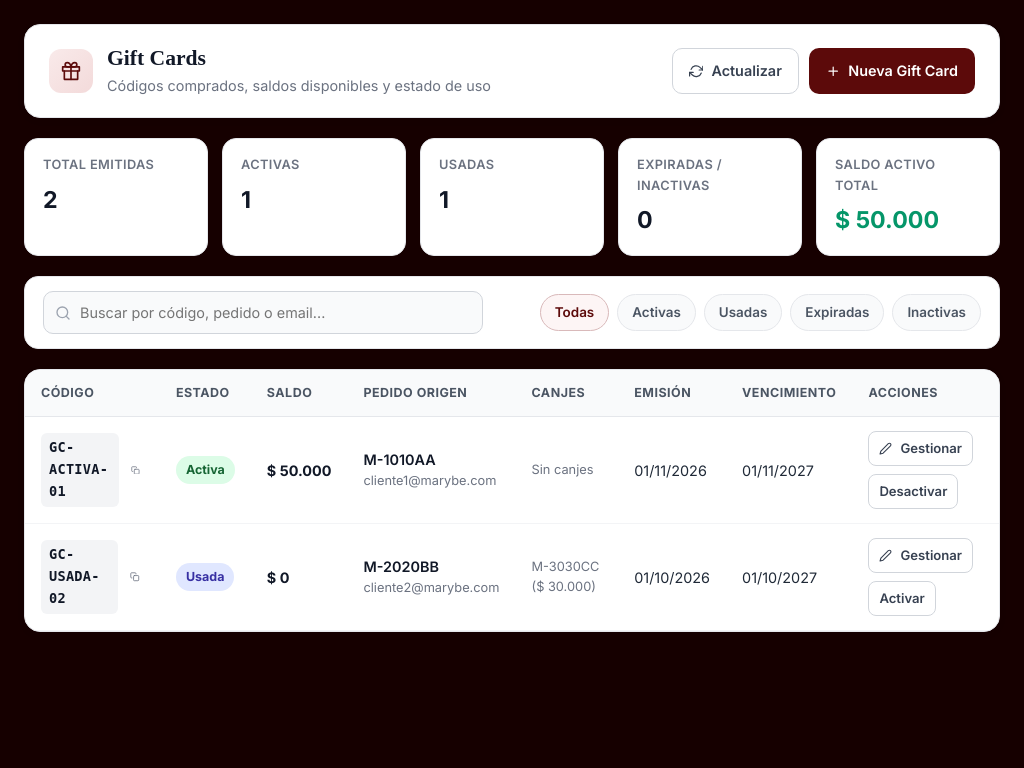
GiftCardsAdmin › filtra gift cards por texto de búsqueda y por estado
This screenshot has width=1024, height=768.
Expected: the text "GC-ACTIVA-01" is shown, [41,434,119,507]
Click the button "Usadas". click: (743, 313)
box: [704,294,782,331]
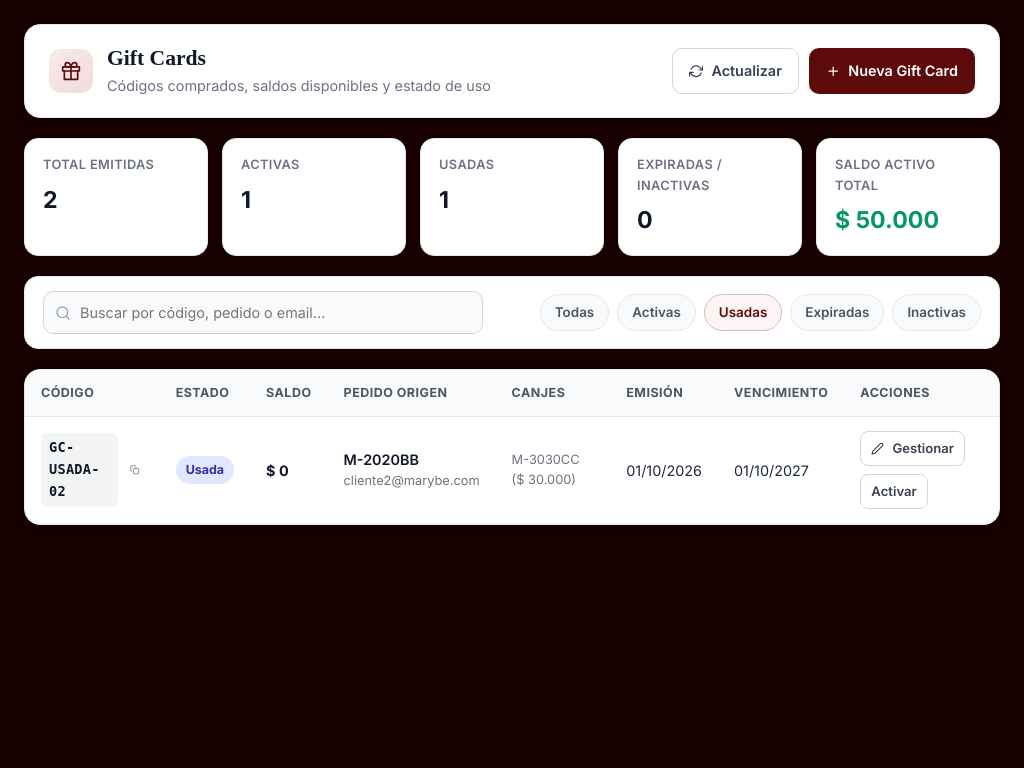
Expected: the text "GC-USADA-02" is shown, [41,434,118,507]
Result: the text "GC-ACTIVA-01" is gone
Click the button "Todas". click: (575, 313)
box: [540,294,609,331]
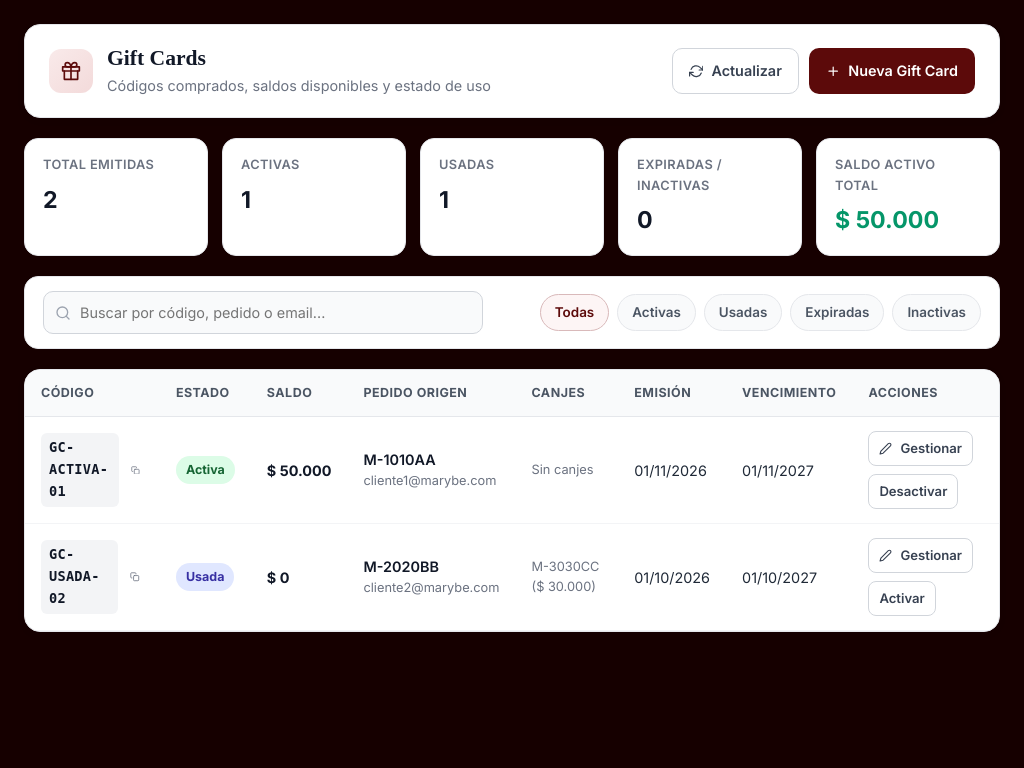
Type "M-1010AA" into the search field named "Buscar Gift Cards". click: (263, 313)
box: [43,291,483,334]
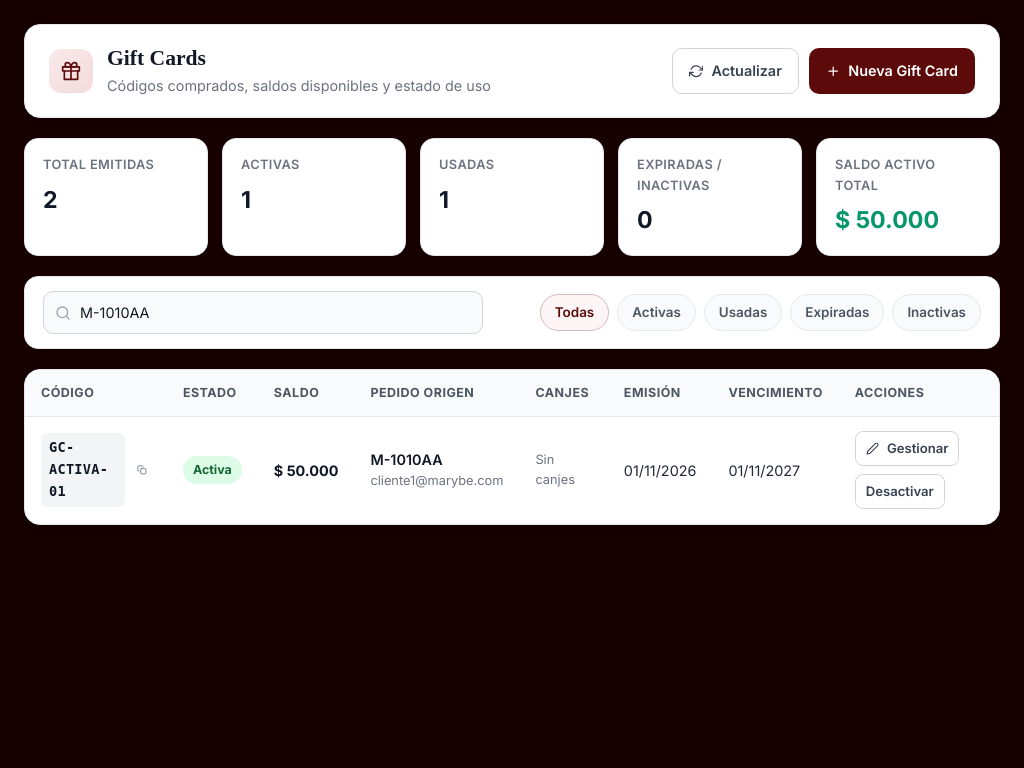
Result: the text "GC-ACTIVA-01" is shown at [41,434,125,507]
Result: the text "GC-USADA-02" is gone
